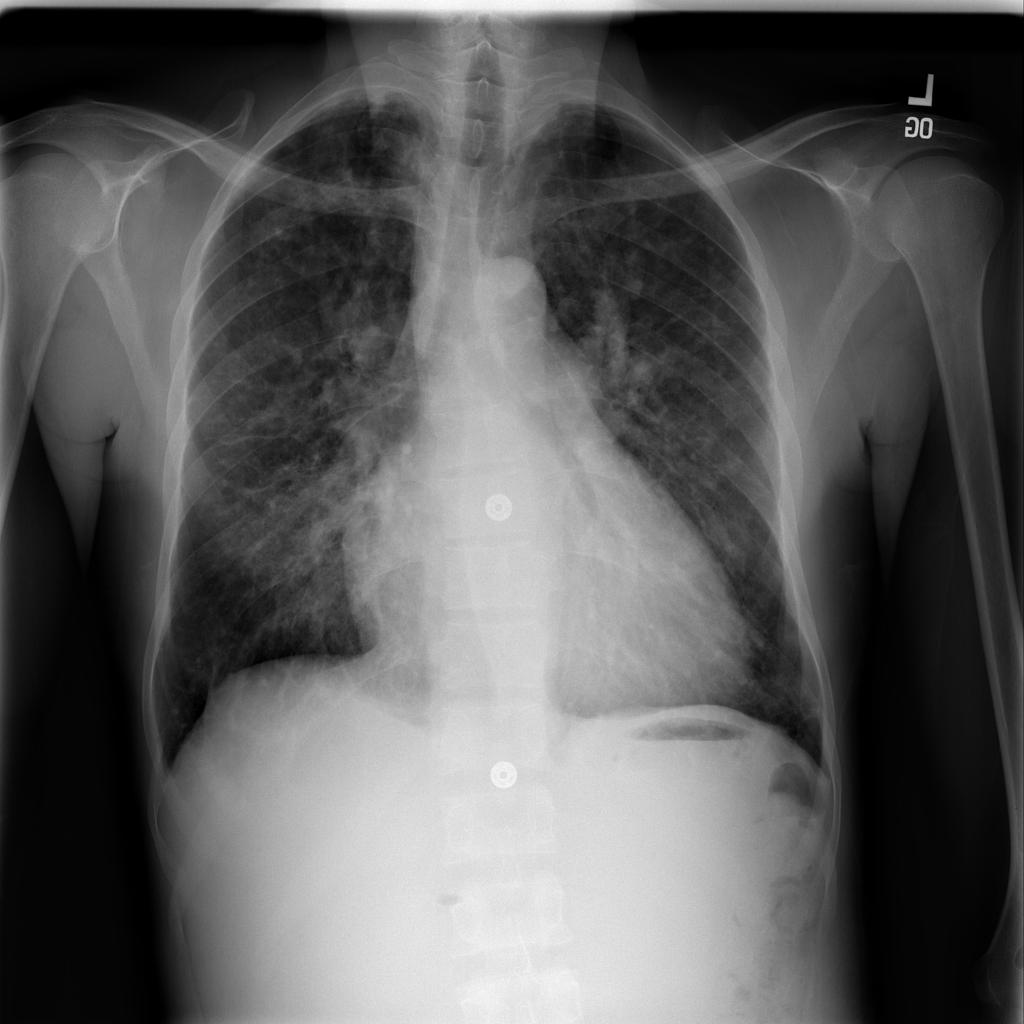Cardiomegaly: (299, 351, 778, 761)
